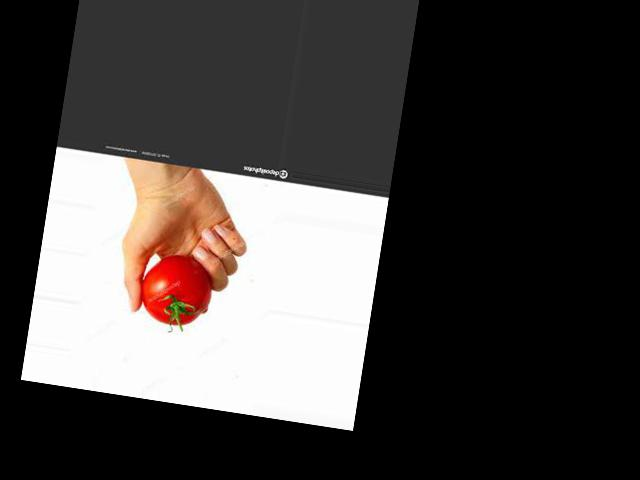tomato: (136, 249, 215, 330)
